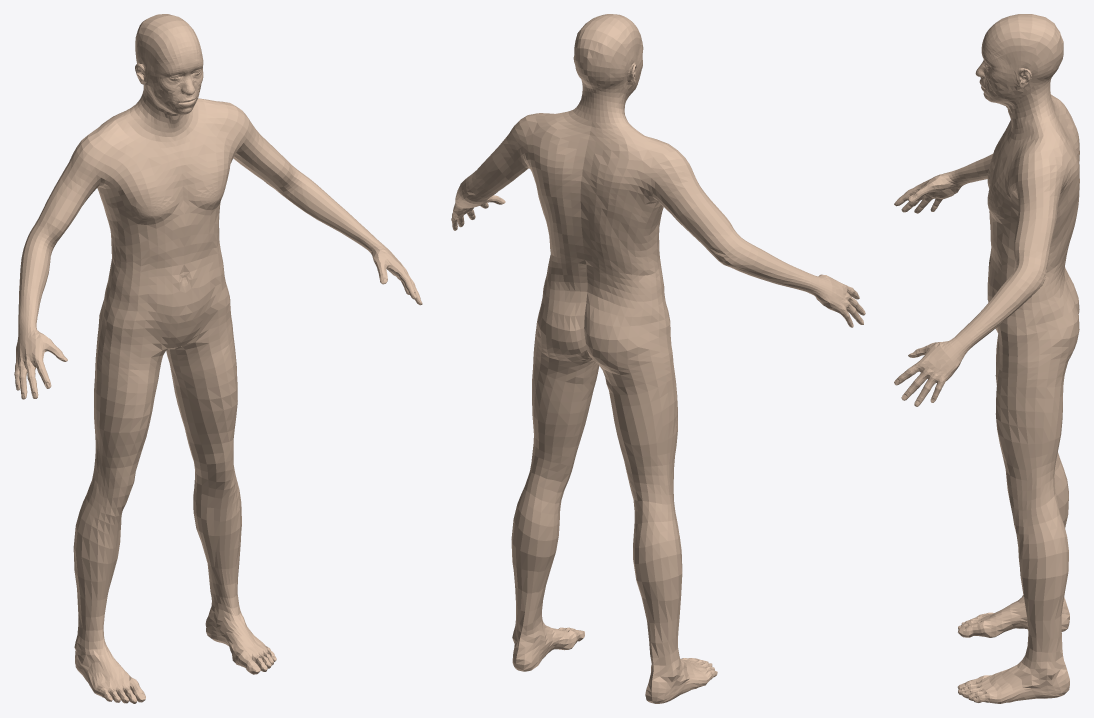
The model's file is male-mature-fit-strong.glb.
3 views of the same model, side by side, from view 1: azimuth 30°, elevation 25°; view 2: azimuth 150°, elevation 25°; view 3: azimuth 270°, elevation 25° (orthographic).
Visible parts, largest first — view 1: world; view 2: world; view 3: world.
Boxes of the visible parts, <box> form: world: <box>14,14,422,703</box>; world: <box>451,14,865,703</box>; world: <box>894,14,1079,703</box>.
Size of the model in its own units: 1.25 by 1.94 by 0.5041.
